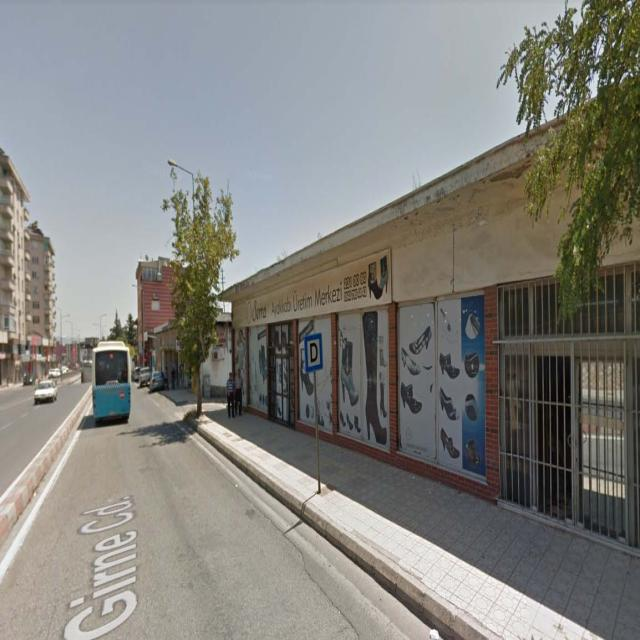durak: (304, 334, 322, 370)
